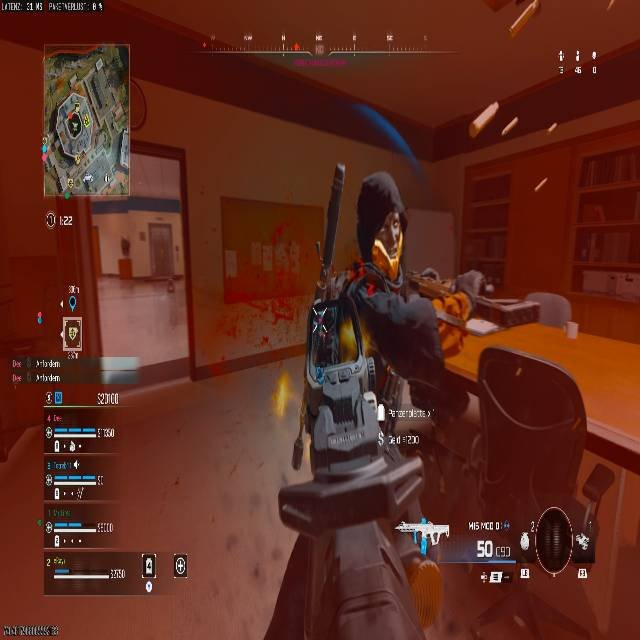head: (356, 169, 408, 279)
player: (267, 177, 488, 640)
